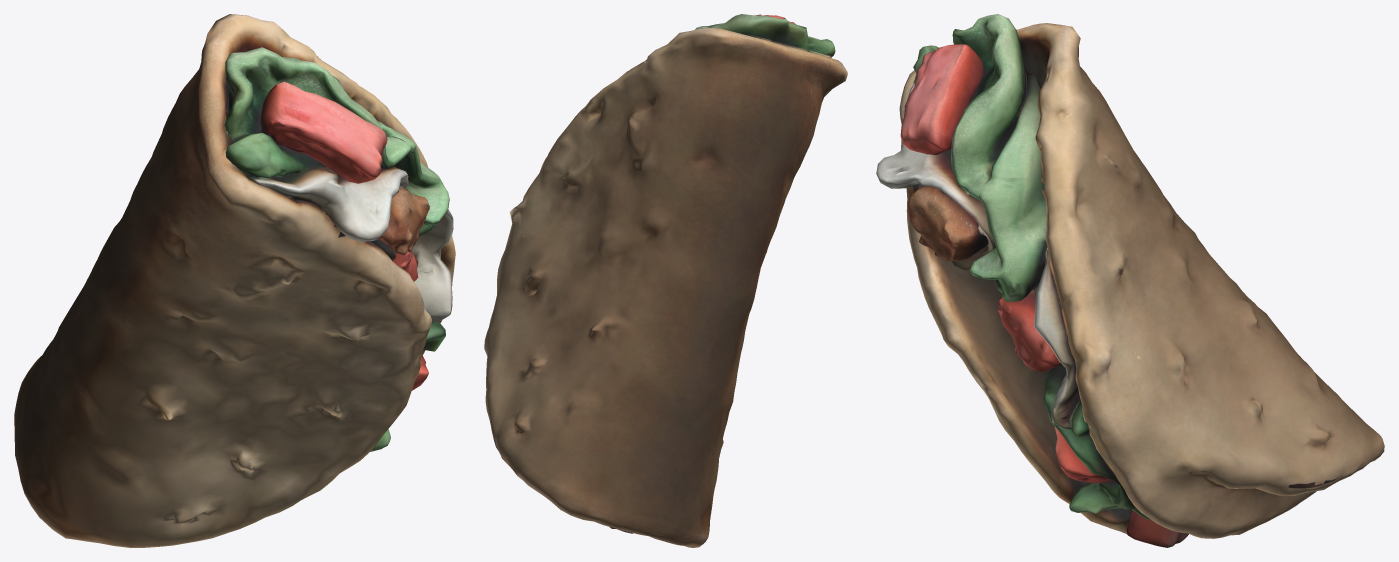
Rendered from Stack 1C - Taco.glb.
The picture shows the model from 3 angles, left to right: view 1: azimuth 30°, elevation 25°; view 2: azimuth 150°, elevation 25°; view 3: azimuth 270°, elevation 25°; orthographic projection. The views are drawn at different scales.
Parts seen in each view (by area): view 1: Stack 1C - Taco · part 1, Stack 1C - Taco · part 2, Stack 1C - Taco · part 7, Stack 1C - Taco · part 10, Stack 1C - Taco · part 5, Stack 1C - Taco · part 8; view 2: Stack 1C - Taco · part 1, Stack 1C - Taco · part 2; view 3: Stack 1C - Taco · part 1, Stack 1C - Taco · part 2, Stack 1C - Taco · part 5, Stack 1C - Taco · part 8, Stack 1C - Taco · part 7, Stack 1C - Taco · part 10, Stack 1C - Taco · part 11, Stack 1C - Taco · part 12, Stack 1C - Taco · part 3, Stack 1C - Taco · part 6, Stack 1C - Taco · part 4.
Boxes of the visible parts, box(x1,y1,x2,y2) form: Stack 1C - Taco · part 1: box(14, 14, 455, 547); Stack 1C - Taco · part 2: box(224, 47, 412, 183); Stack 1C - Taco · part 7: box(247, 161, 408, 260); Stack 1C - Taco · part 10: box(411, 209, 453, 322); Stack 1C - Taco · part 5: box(378, 121, 449, 236); Stack 1C - Taco · part 8: box(376, 186, 429, 255); Stack 1C - Taco · part 1: box(484, 27, 847, 547); Stack 1C - Taco · part 2: box(695, 14, 835, 57); Stack 1C - Taco · part 1: box(899, 23, 1384, 538); Stack 1C - Taco · part 2: box(900, 14, 1027, 205); Stack 1C - Taco · part 5: box(970, 75, 1047, 301); Stack 1C - Taco · part 8: box(907, 186, 988, 261); Stack 1C - Taco · part 7: box(876, 84, 995, 270); Stack 1C - Taco · part 10: box(1034, 249, 1089, 436); Stack 1C - Taco · part 11: box(997, 289, 1060, 371); Stack 1C - Taco · part 12: box(1043, 364, 1135, 509); Stack 1C - Taco · part 3: box(1126, 509, 1188, 547); Stack 1C - Taco · part 6: box(1069, 476, 1152, 520); Stack 1C - Taco · part 4: box(1054, 427, 1116, 483).
Bounding box in the file's own units: 0.6152 × 1 × 0.915.
Materials: 12 (12 with a texture image).
